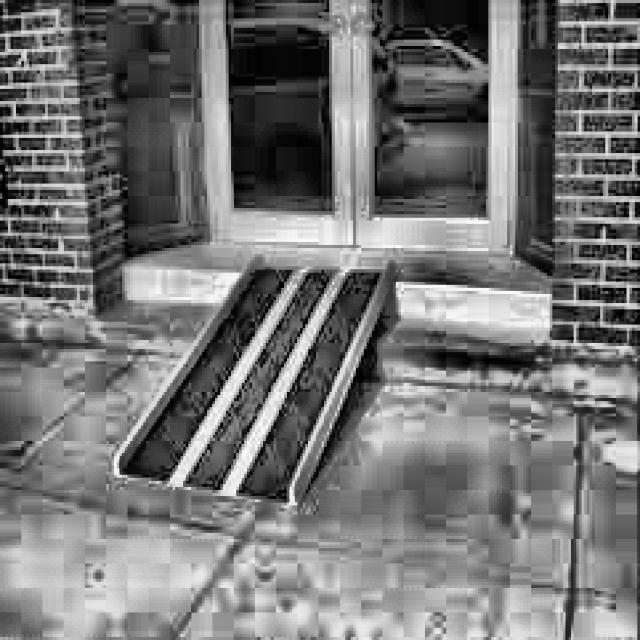escada: (394, 270, 551, 398), (80, 267, 218, 352)
